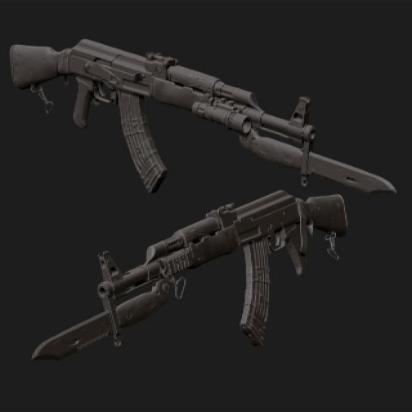Gun: (4, 32, 399, 193), (27, 189, 350, 366)
